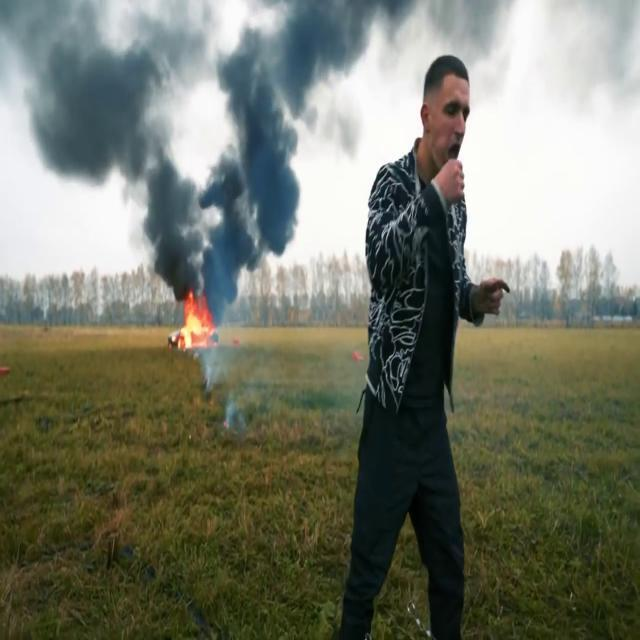Fire: (168, 286, 219, 350)
Smoke: (2, 0, 204, 309), (206, 0, 383, 294), (201, 338, 255, 432)
